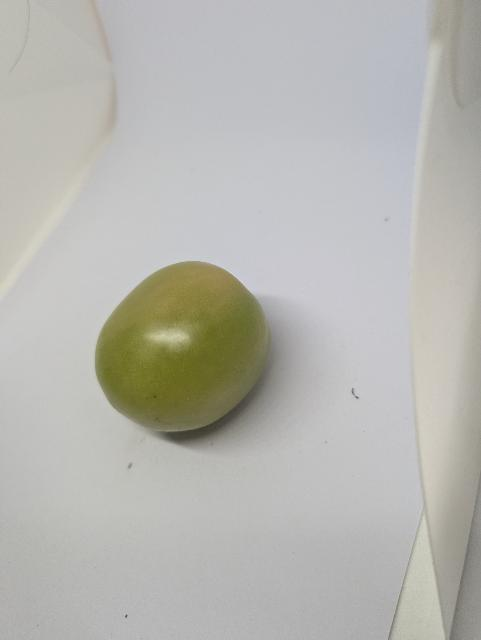green: (77, 247, 283, 449)
